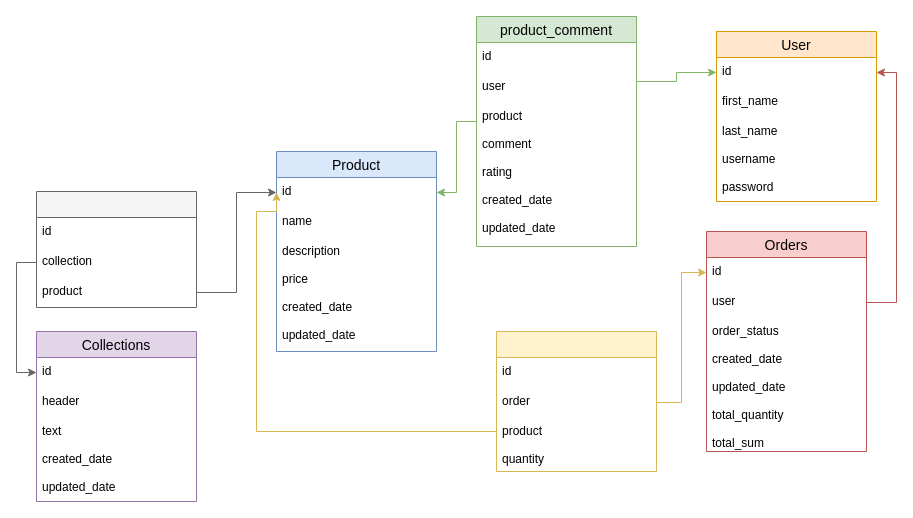
This 913x518 diagram has some shape labels left out. Here are the shapes that lost their labels. From the top down, the box of each, then its label:
(36, 190, 196, 308): collections_products
(496, 330, 656, 472): Order_positions
